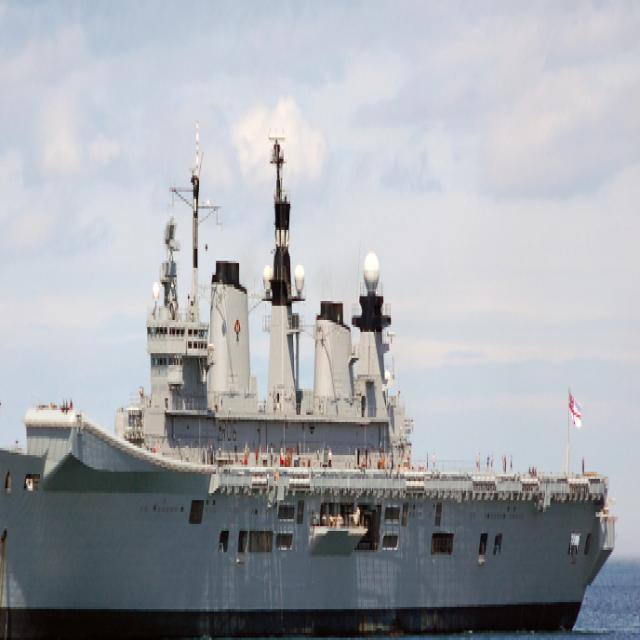Portanaves: (1, 124, 618, 640)
